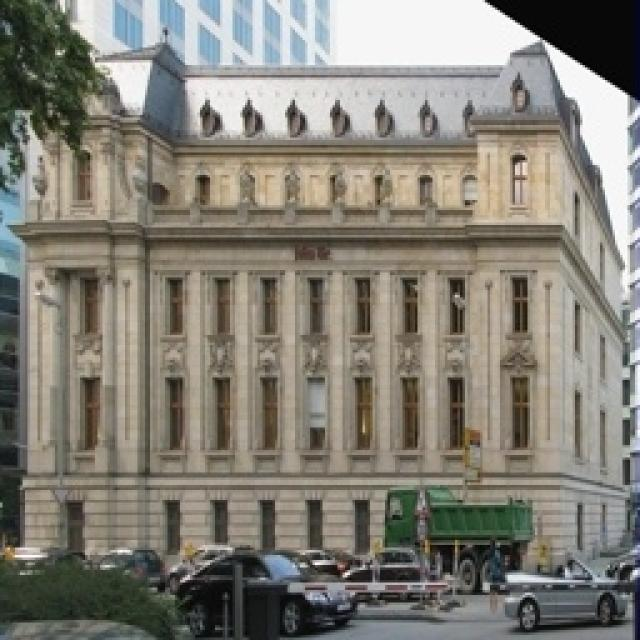building: (0, 22, 625, 612)
